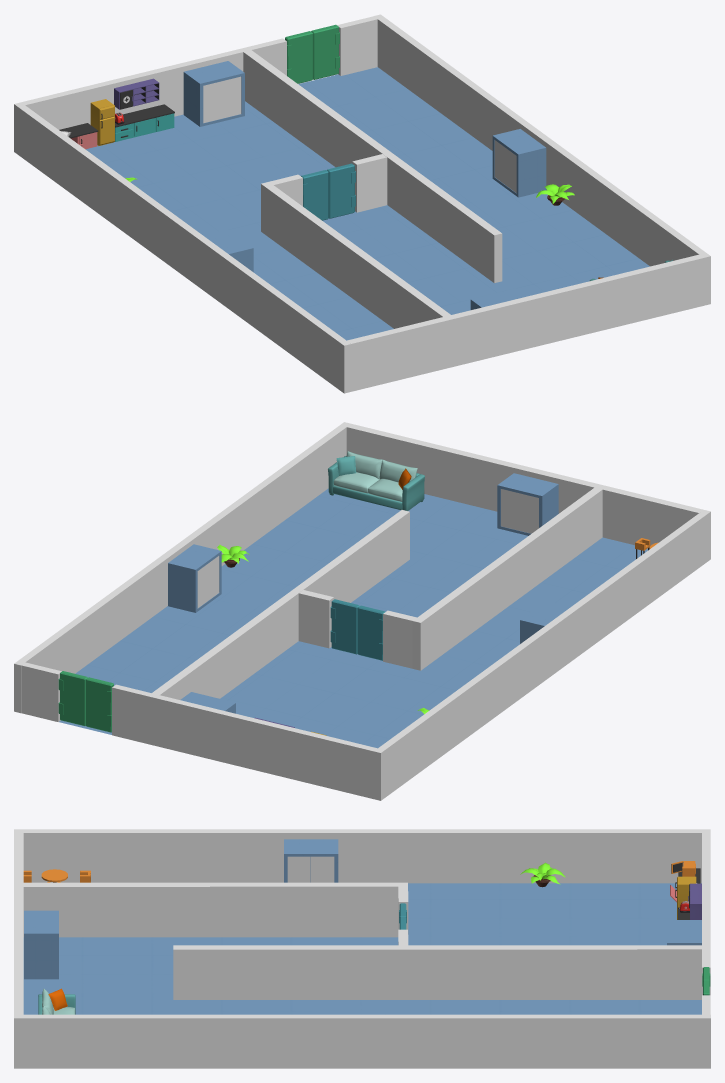
Rendered from maps_21.fbx.
3 renders of one model, top to bottom at view 1: azimuth 30°, elevation 25°; view 2: azimuth 150°, elevation 25°; view 3: azimuth 270°, elevation 25°, orthographic. The views are drawn at different scales.
Parts seen in each view (by area): view 1: frames_13_geo, frames_06_geo, frames_03_geo, frames_04_geo, frames_02_geo8, frames_02_geo2, frames_03_geo1, tu_02_01_geo (×2), pasted__tu_02_01_geo (×2), frames_11_geo, frames_02_geo3, polySurface111 (+9 smaller); view 2: frames_13_geo, frames_03_geo, frames_04_geo, frames_03_geo1, frames_06_geo, frames_02_geo8, frames_02_geo2, sofa_geo, tu_02_01_geo (×2), pasted__tu_02_01_geo (×2), frames_11_geo, frames_02_geo3 (+7 smaller); view 3: frames_04_geo, frames_13_geo, frames_03_geo, frames_02_geo8, frames_02_geo2, pasted__tu_02_01_geo (×2), frames_06_geo, tu_02_01_geo (×2), frames_03_geo1, sofa_geo, pasted__tu_02_02_geo, pasted__tu_02_03_geo (+3 smaller).
Part boxes in pixels (box(x1,y1,x2,y2)): frames_13_geo: box(86, 67, 649, 340); frames_06_geo: box(347, 254, 703, 391); frames_03_geo: box(14, 102, 351, 393); frames_04_geo: box(374, 14, 710, 305); frames_02_geo8: box(243, 50, 502, 283); frames_02_geo2: box(261, 182, 450, 328); frames_03_geo1: box(21, 38, 286, 129); tu_02_01_geo (×2): box(203, 129, 546, 272); pasted__tu_02_01_geo (×2): box(183, 61, 525, 309); frames_11_geo: box(337, 16, 377, 75); frames_02_geo3: box(352, 154, 387, 212); polySurface111: box(115, 104, 174, 141); frames_13_geo: box(59, 488, 649, 748); frames_03_geo: box(374, 510, 710, 800); frames_04_geo: box(14, 422, 350, 713); frames_03_geo1: box(112, 684, 377, 799); frames_06_geo: box(346, 424, 703, 548); frames_02_geo8: box(152, 510, 409, 699); frames_02_geo2: box(412, 487, 602, 670); sofa_geo: box(328, 451, 424, 510); tu_02_01_geo (×2): box(168, 544, 570, 643); pasted__tu_02_01_geo (×2): box(180, 473, 558, 713); frames_11_geo: box(21, 662, 61, 721); frames_02_geo3: box(298, 590, 333, 648); frames_04_geo: box(14, 1014, 710, 1068); frames_13_geo: box(23, 883, 701, 1014); frames_03_geo: box(14, 829, 710, 883); frames_02_geo8: box(173, 945, 702, 999); frames_02_geo2: box(23, 882, 407, 937); pasted__tu_02_01_geo (×2): box(24, 910, 701, 979); frames_06_geo: box(14, 833, 23, 1014); tu_02_01_geo (×2): box(284, 839, 400, 1014); frames_03_geo1: box(702, 833, 710, 995); sofa_geo: box(38, 988, 75, 1014); pasted__tu_02_02_geo: box(287, 856, 310, 882); pasted__tu_02_03_geo: box(311, 856, 334, 882).
Bounding box in the file's own units: 71.19 × 9.51 × 111.
11 materials, 11 textured.
